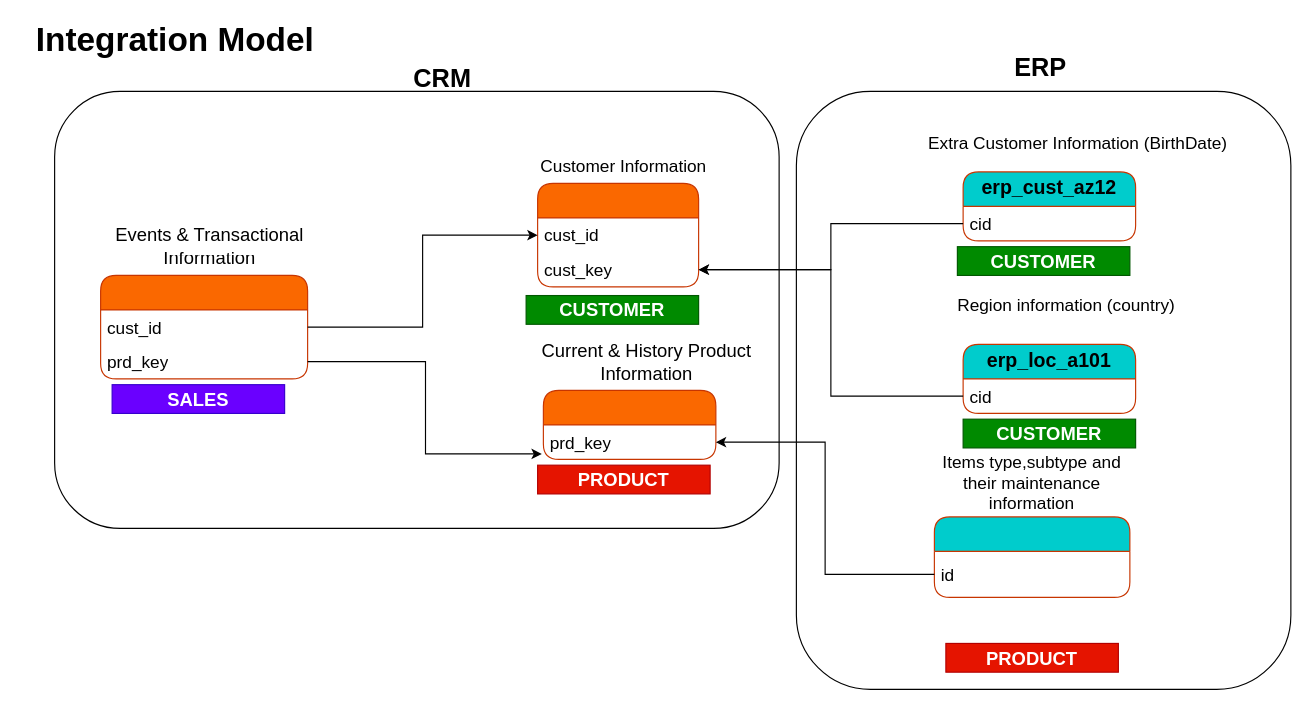
Image size: 1311x710. Some labels were removed from this diagram. Here are the shapes that lost their labels. From the top down, the box of each, then its label:
(536, 182, 699, 287): crm_cust_info
(99, 274, 308, 379): crm_sales_details
(542, 389, 716, 459): crm_prd_info
(933, 516, 1130, 597): erp_px_cat_g1v2
